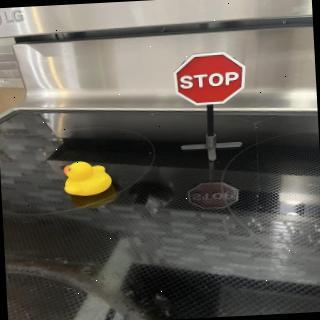duck_regular: (64, 160, 115, 200)
sign_stop: (174, 51, 249, 108)
